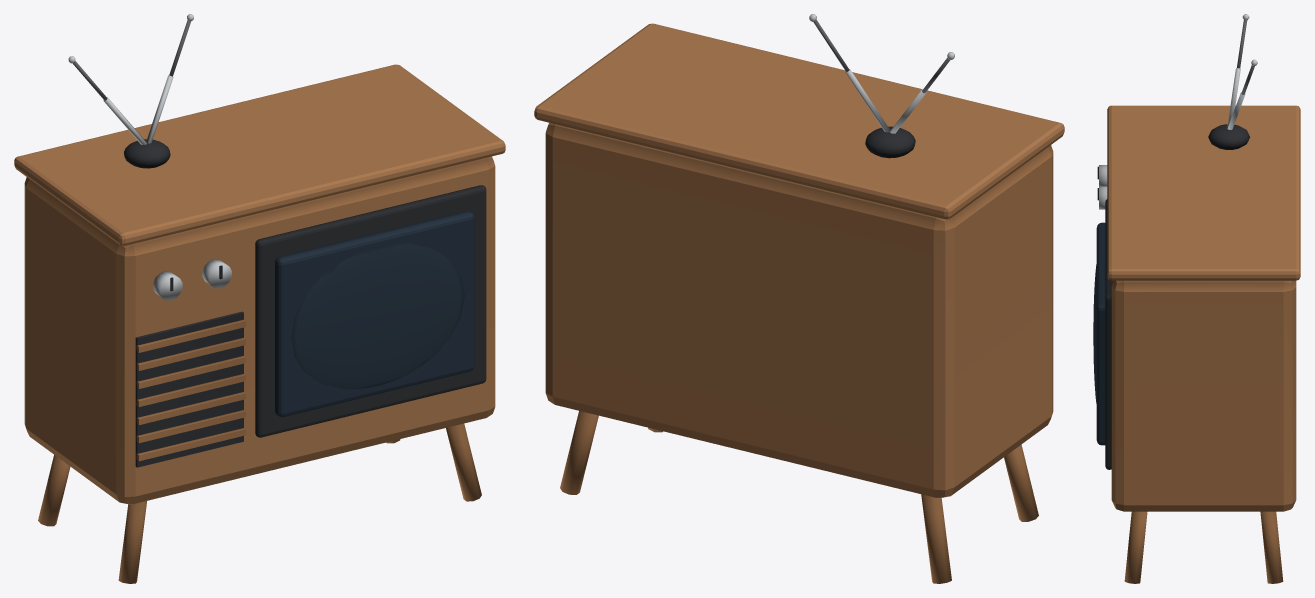
File: tvRetro.glb
3 views of the same model, side by side, from view 1: azimuth 30°, elevation 25°; view 2: azimuth 150°, elevation 25°; view 3: azimuth 270°, elevation 25° (orthographic). The views are drawn at different scales.
Parts seen in each view (by area): view 1: tvRetro, ears; view 2: tvRetro, ears; view 3: tvRetro, ears.
Part boxes in pixels (left/top/right/bottom): tvRetro: left=14, top=64, right=505, bottom=583; ears: left=68, top=14, right=193, bottom=144; tvRetro: left=534, top=23, right=1064, bottom=583; ears: left=809, top=14, right=954, bottom=133; tvRetro: left=1093, top=105, right=1300, bottom=583; ears: left=1227, top=14, right=1257, bottom=129.
Bounding box in the file's own units: 0.94 × 1.13 × 0.4932.
